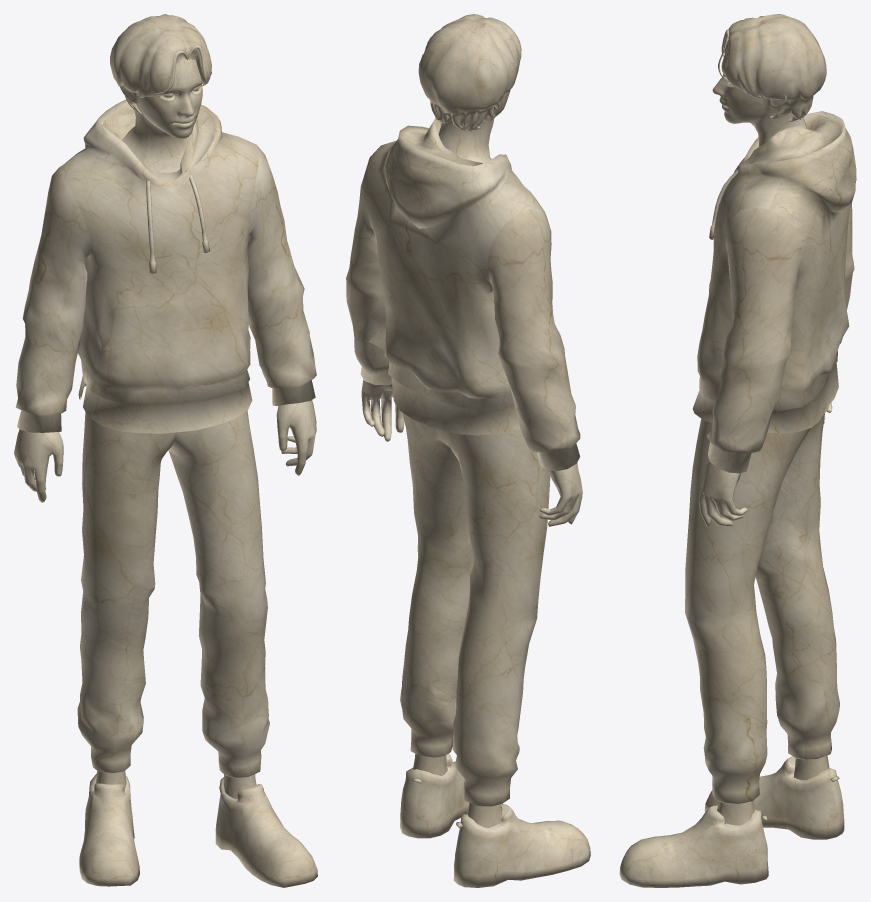
Rendered from Sample_Avatar_M_005.fbx.
3 views of the same model, side by side, from view 1: azimuth 30°, elevation 25°; view 2: azimuth 150°, elevation 25°; view 3: azimuth 270°, elevation 25° (orthographic).
Visible parts, largest first — view 1: Sample_Avatar_M_005; view 2: Sample_Avatar_M_005; view 3: Sample_Avatar_M_005.
Part boxes in pixels (box(x1,y1,x2,y2)): Sample_Avatar_M_005: box(14, 14, 317, 887); Sample_Avatar_M_005: box(346, 14, 590, 887); Sample_Avatar_M_005: box(619, 14, 856, 887).
Bounding box in the file's own units: 0.583 × 1.8 × 0.469.
